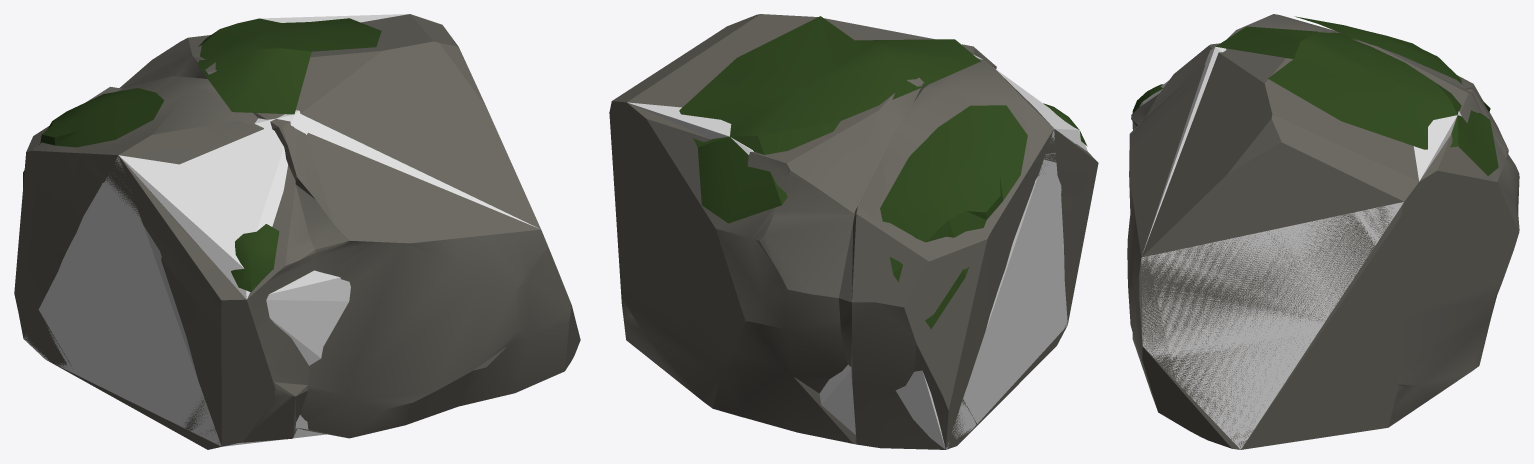
Rendered from Rock_S.fbx.
The picture shows the model from 3 angles, left to right: view 1: azimuth 30°, elevation 25°; view 2: azimuth 150°, elevation 25°; view 3: azimuth 270°, elevation 25°; orthographic projection. The views are drawn at different scales.
Visible parts, largest first — view 1: Rock_S_Body, COL_Rock_S; view 2: Rock_S_Body, COL_Rock_S; view 3: Rock_S_Body, COL_Rock_S.
Part boxes in pixels (x1,y1,x2,y2): Rock_S_Body: (14, 14, 580, 449); COL_Rock_S: (23, 14, 538, 446); Rock_S_Body: (609, 14, 1098, 449); COL_Rock_S: (627, 40, 1087, 449); Rock_S_Body: (1127, 14, 1519, 449); COL_Rock_S: (1139, 47, 1461, 449).
Size of what is drawn, in the model's own units: 0.5 by 0.3482 by 0.4218.
